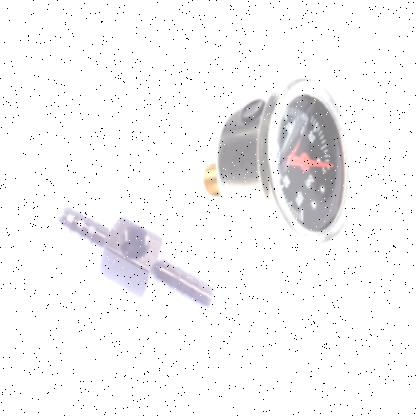needle: (310, 159, 334, 168)
